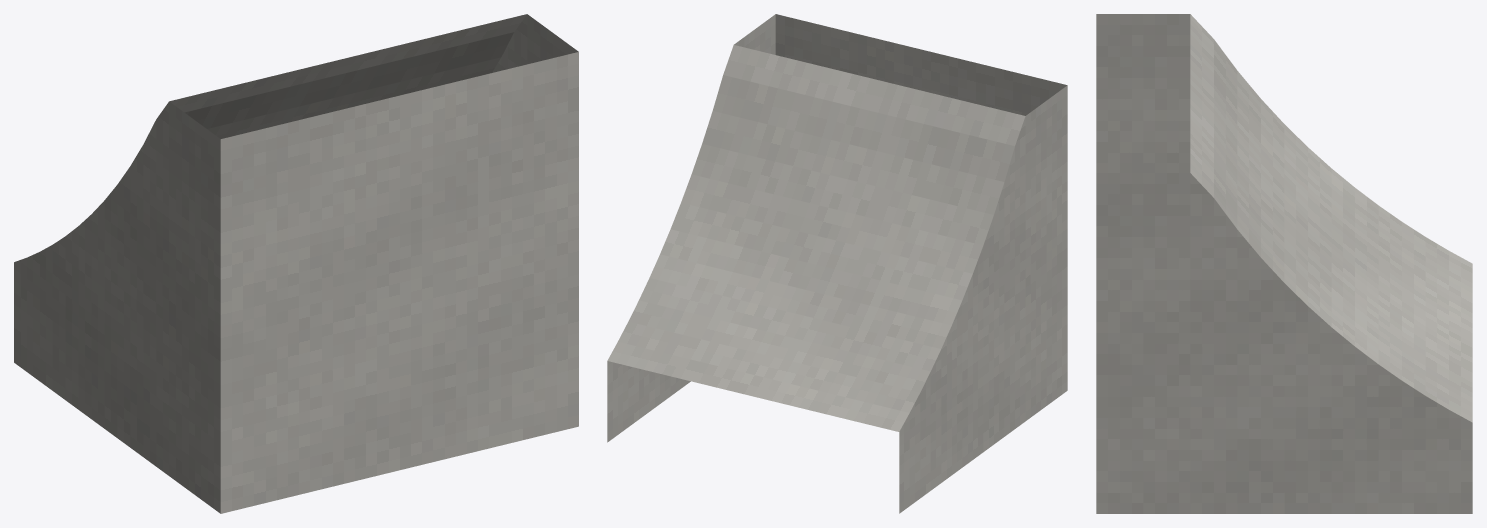
Rendered from qp_large_back.obj.
3 renders of one model, left to right at view 1: azimuth 30°, elevation 25°; view 2: azimuth 150°, elevation 25°; view 3: azimuth 270°, elevation 25°, orthographic. The views are drawn at different scales.
Parts seen in each view (by area): view 1: qp_large_back; view 2: qp_large_back; view 3: qp_large_back.
Boxes of the visible parts, box(x1,y1,x2,y2) form: qp_large_back: box(14, 14, 578, 513); qp_large_back: box(607, 14, 1067, 513); qp_large_back: box(1096, 14, 1472, 513).
Size of the model in its own units: 1 by 1 by 1.
